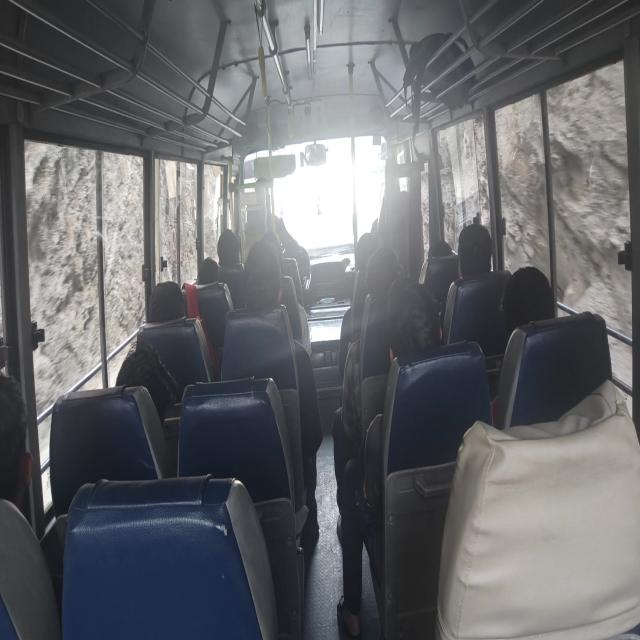person: (1, 362, 36, 511), (115, 336, 179, 413), (501, 255, 555, 335), (388, 277, 443, 354), (454, 218, 495, 289), (245, 245, 284, 312), (375, 183, 420, 223), (368, 242, 400, 293), (148, 282, 184, 324), (251, 174, 281, 219), (215, 227, 244, 265), (261, 224, 287, 262), (426, 232, 454, 266), (357, 230, 381, 264), (198, 253, 222, 285)
